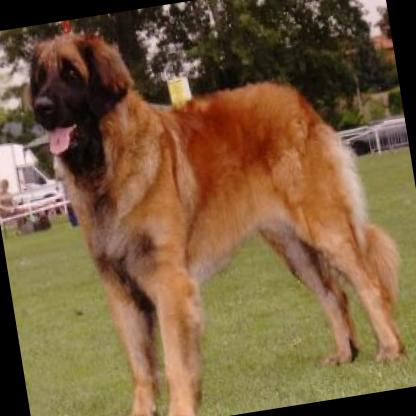Leonberg: (9, 0, 416, 416)
